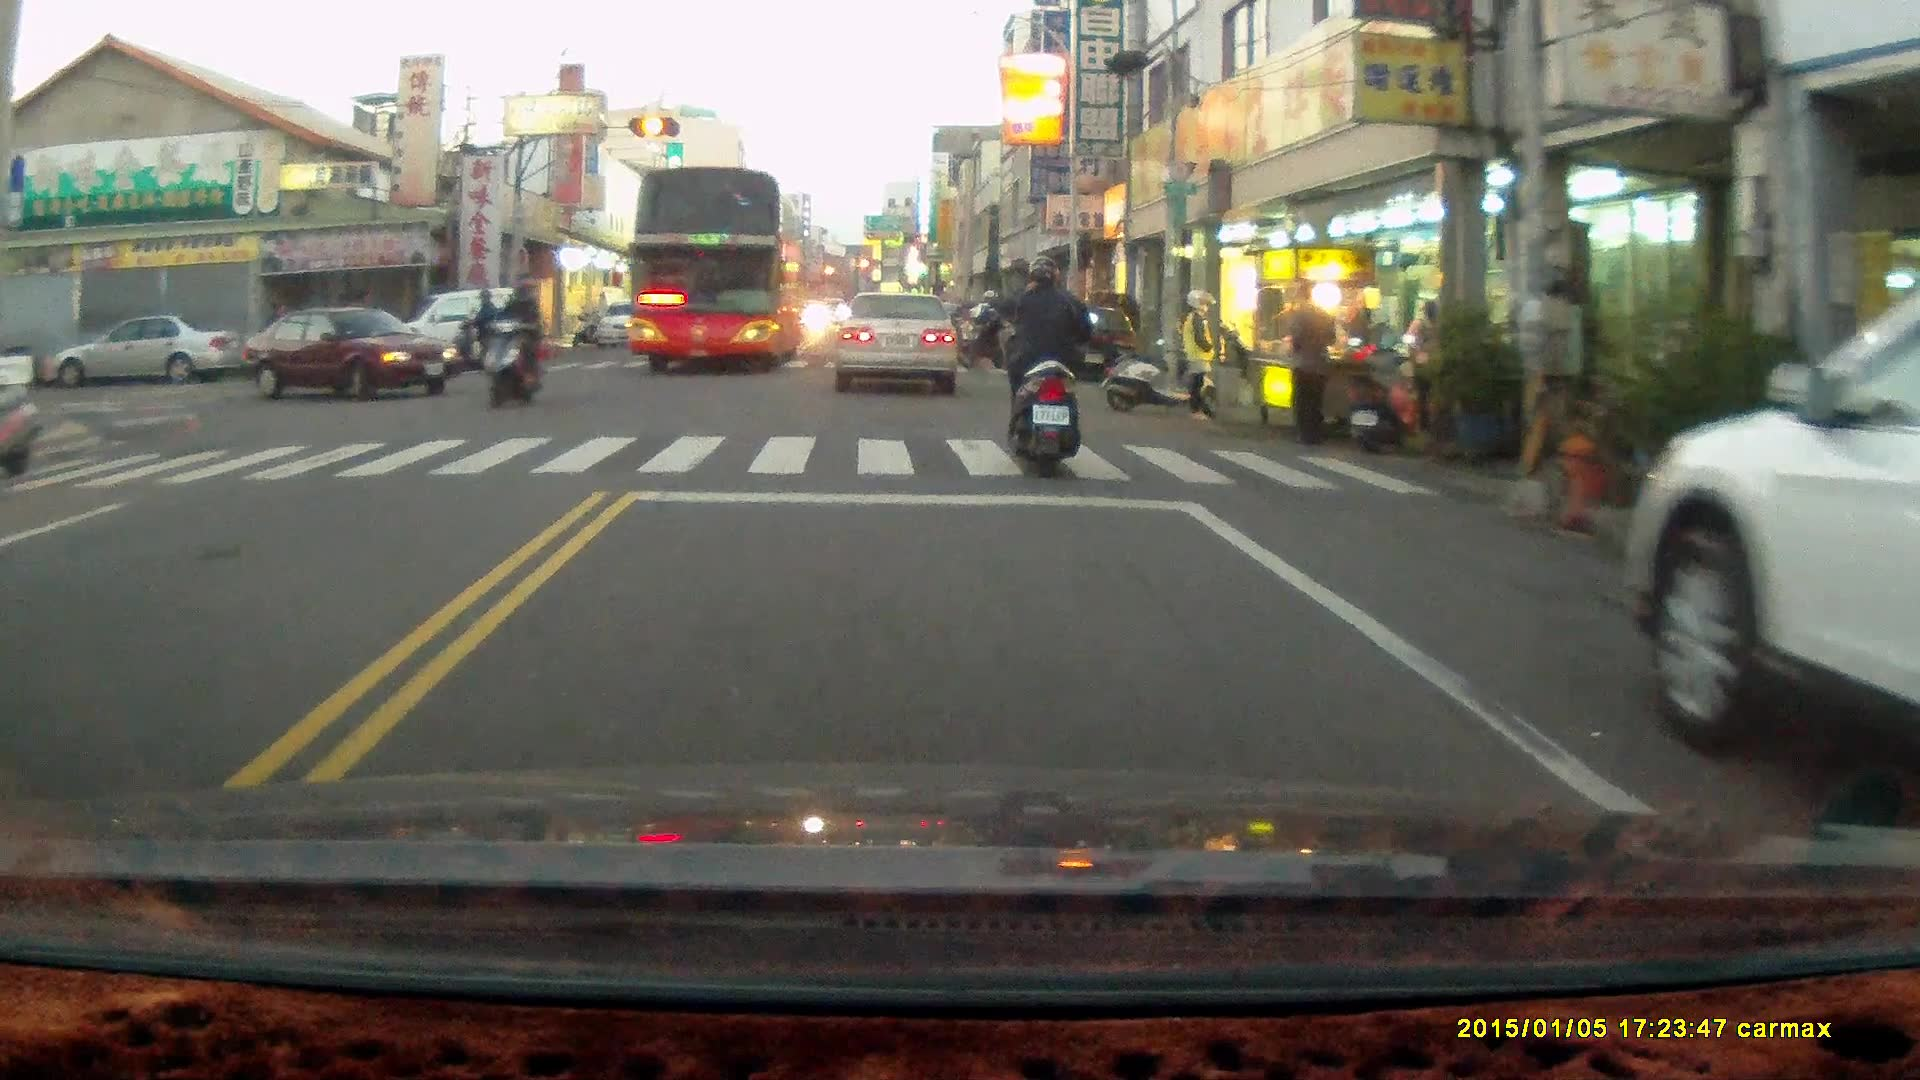pedestrian: (1284, 273, 1334, 443), (1175, 280, 1215, 418), (1404, 300, 1442, 437)
rider: (993, 244, 1100, 472), (482, 273, 542, 408), (955, 285, 1015, 368), (449, 286, 507, 370)
vehicle: (1617, 294, 1920, 827), (629, 168, 802, 377), (244, 301, 455, 397), (40, 311, 224, 390), (833, 290, 962, 395), (1044, 299, 1144, 383), (597, 297, 666, 350)
